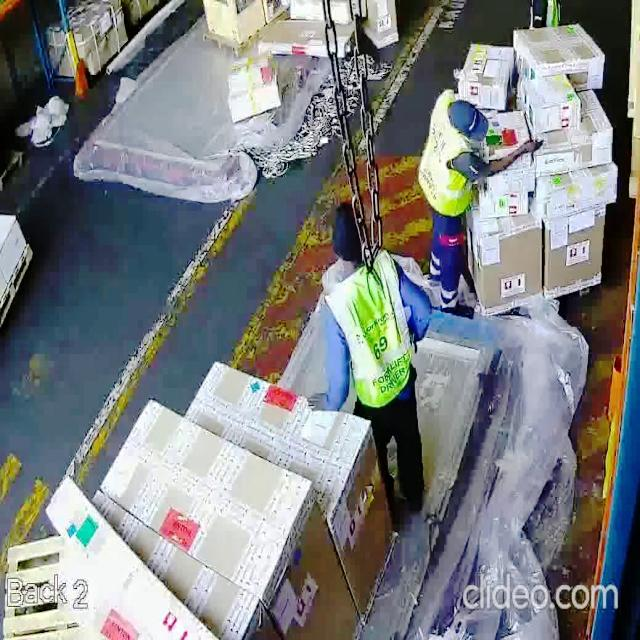Box: (189, 362, 389, 506), (123, 415, 298, 573), (475, 219, 547, 313), (543, 213, 606, 298), (517, 26, 597, 72), (226, 57, 286, 118), (520, 77, 584, 133), (539, 176, 621, 216), (541, 126, 617, 163), (464, 48, 510, 106)
